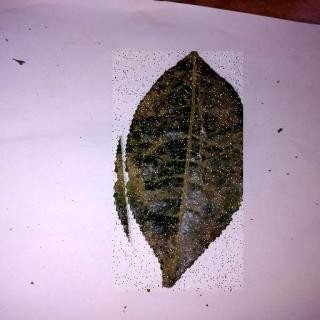Anthracnose: (114, 53, 244, 293)
